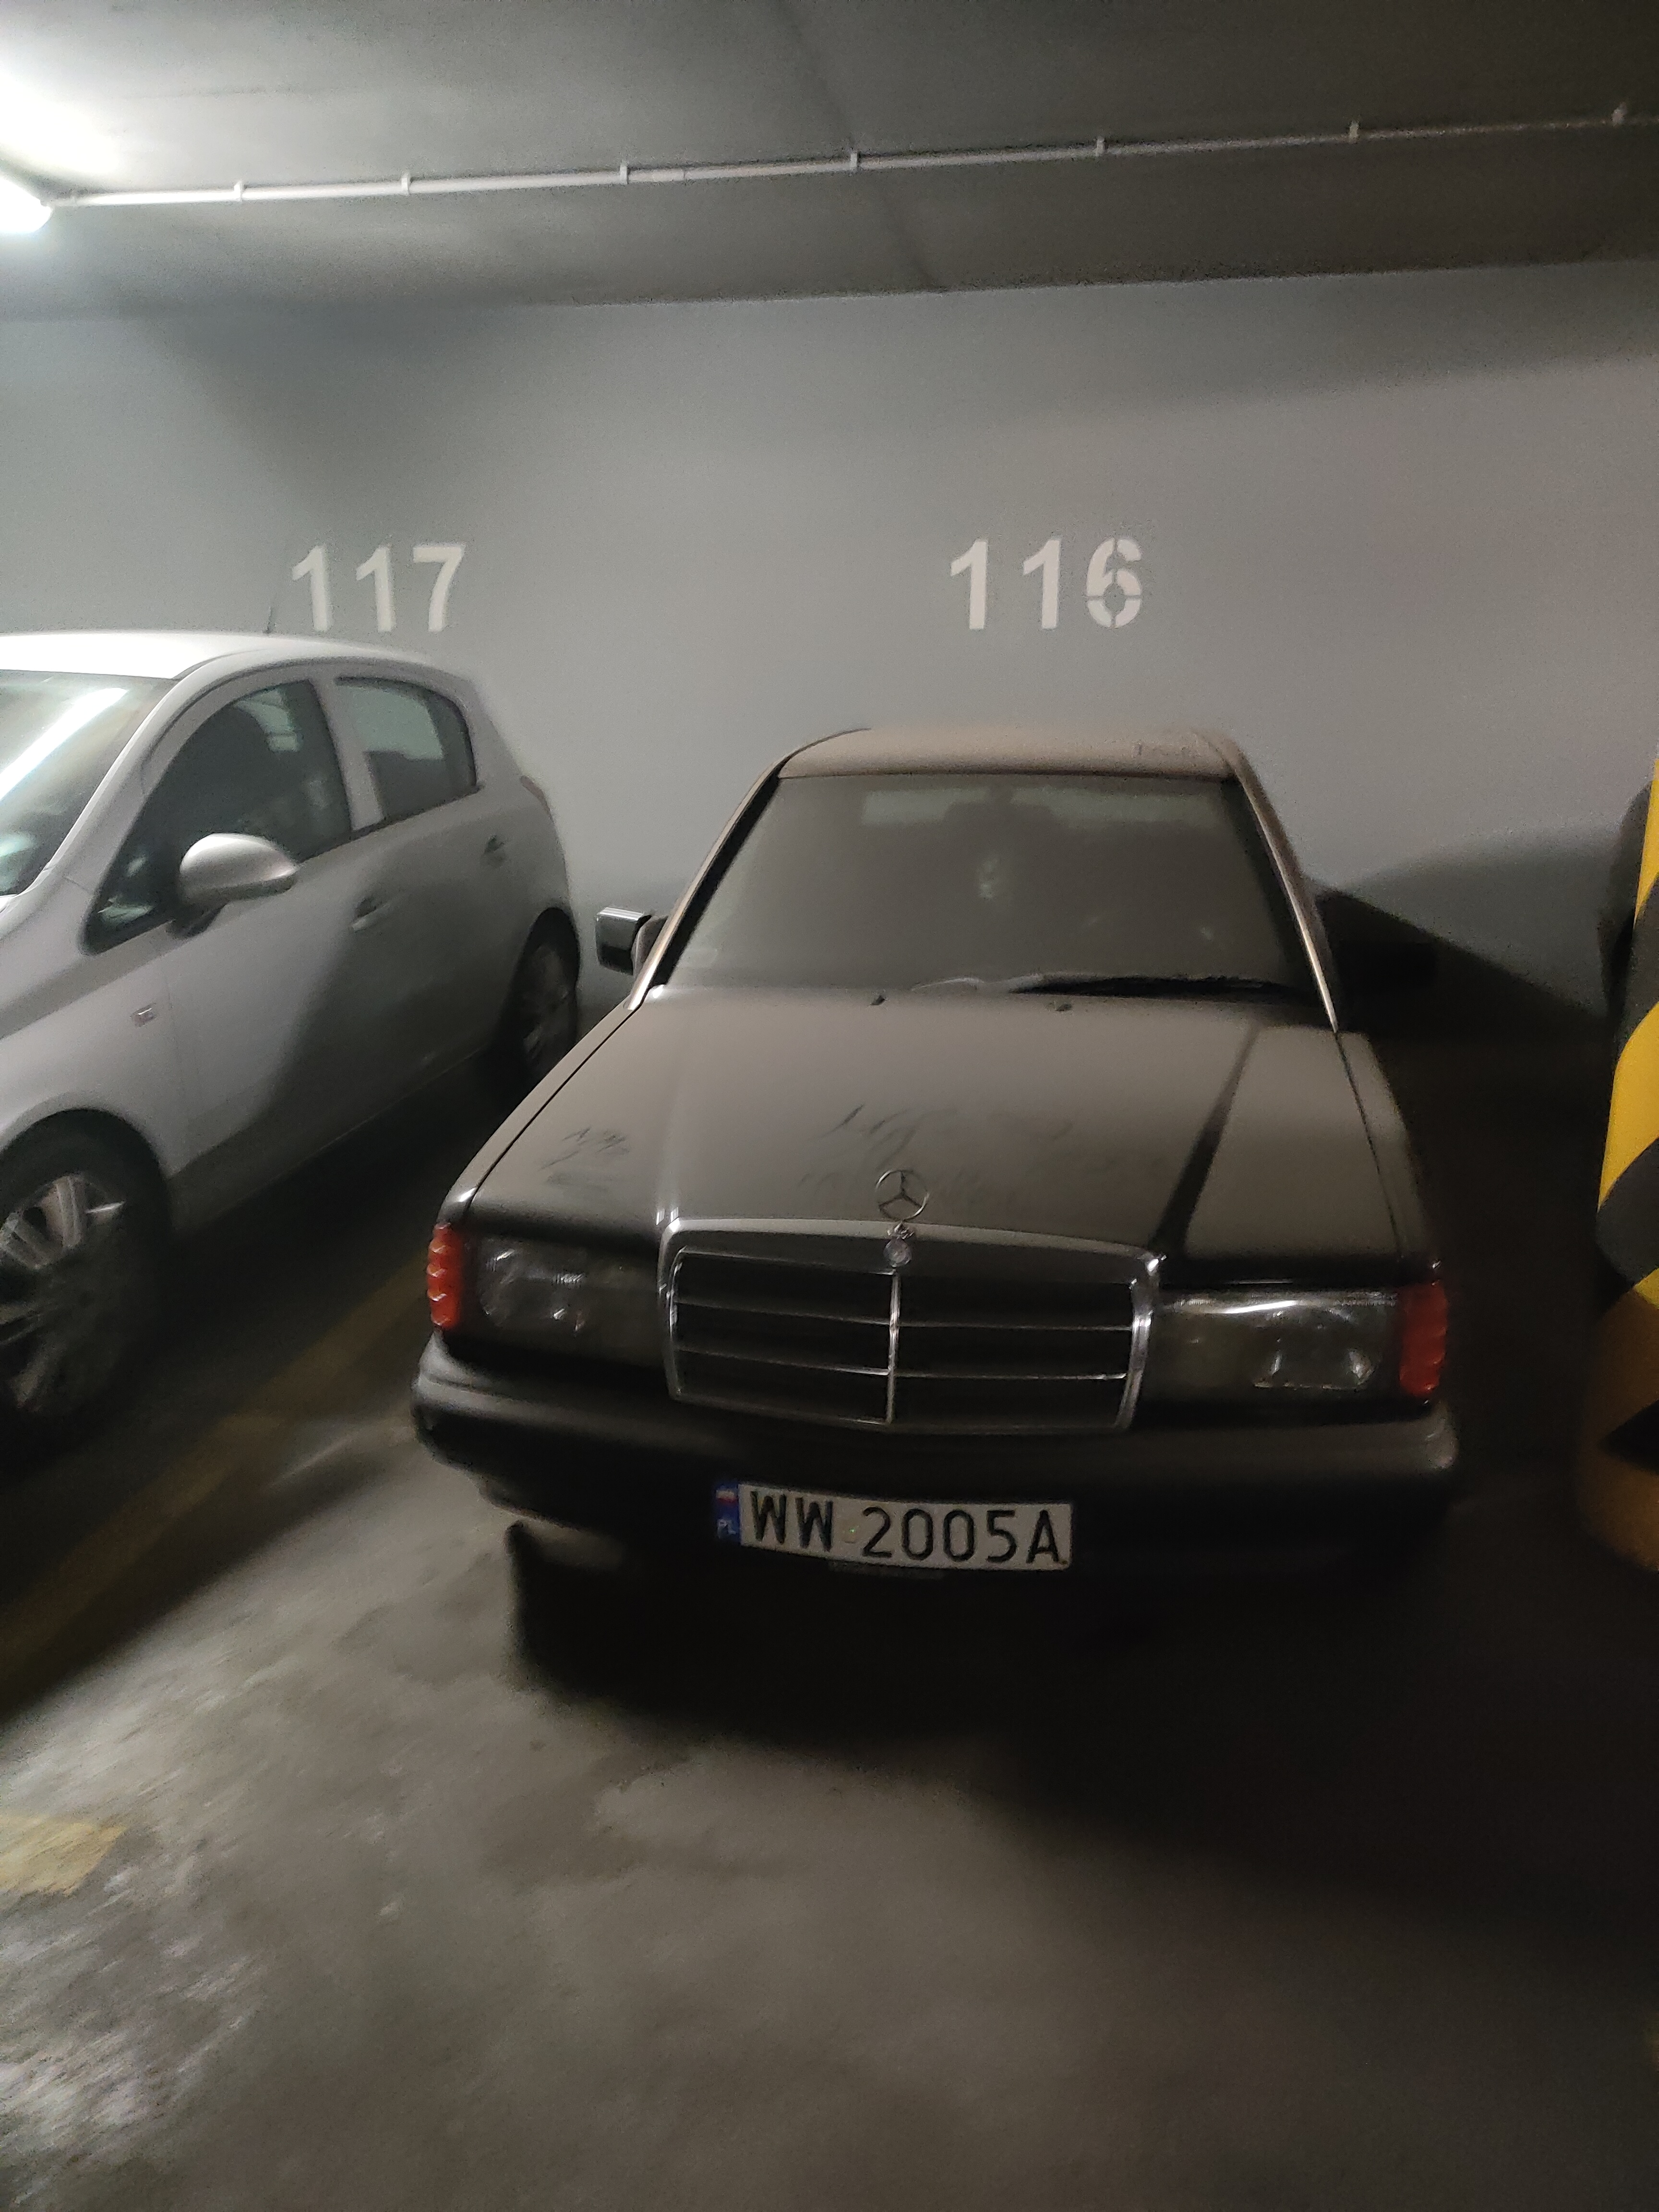number_plate: (707, 1471, 1079, 1581)
